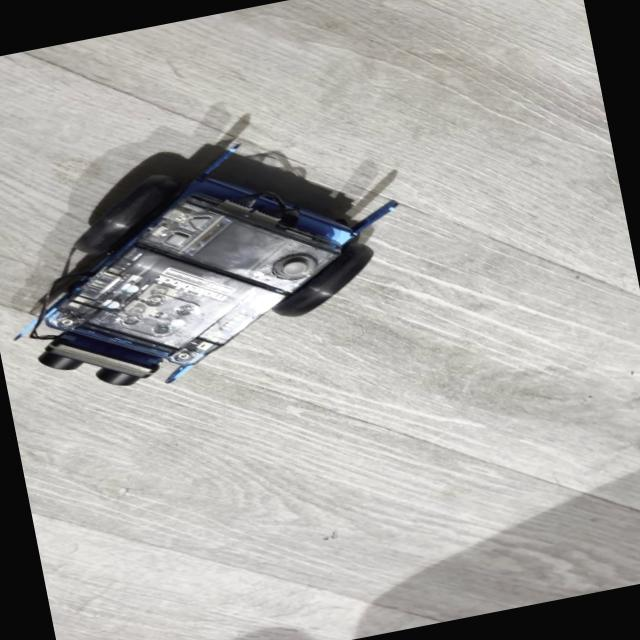mbot-detection: (0, 97, 439, 419)
